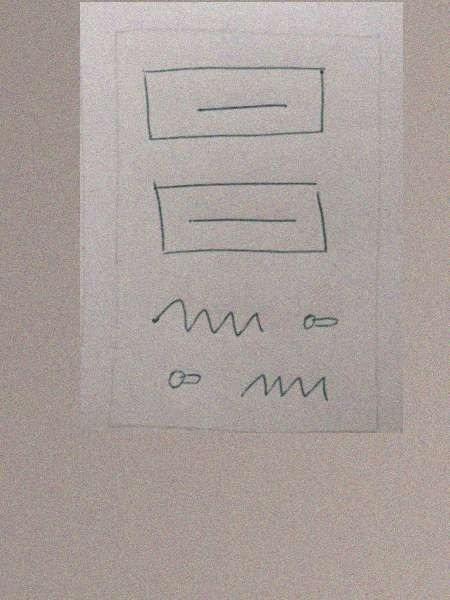button: (136, 58, 342, 148), (140, 176, 349, 264)
switch: (295, 308, 358, 337), (157, 363, 212, 396)
text: (145, 286, 271, 344), (235, 367, 333, 408)
